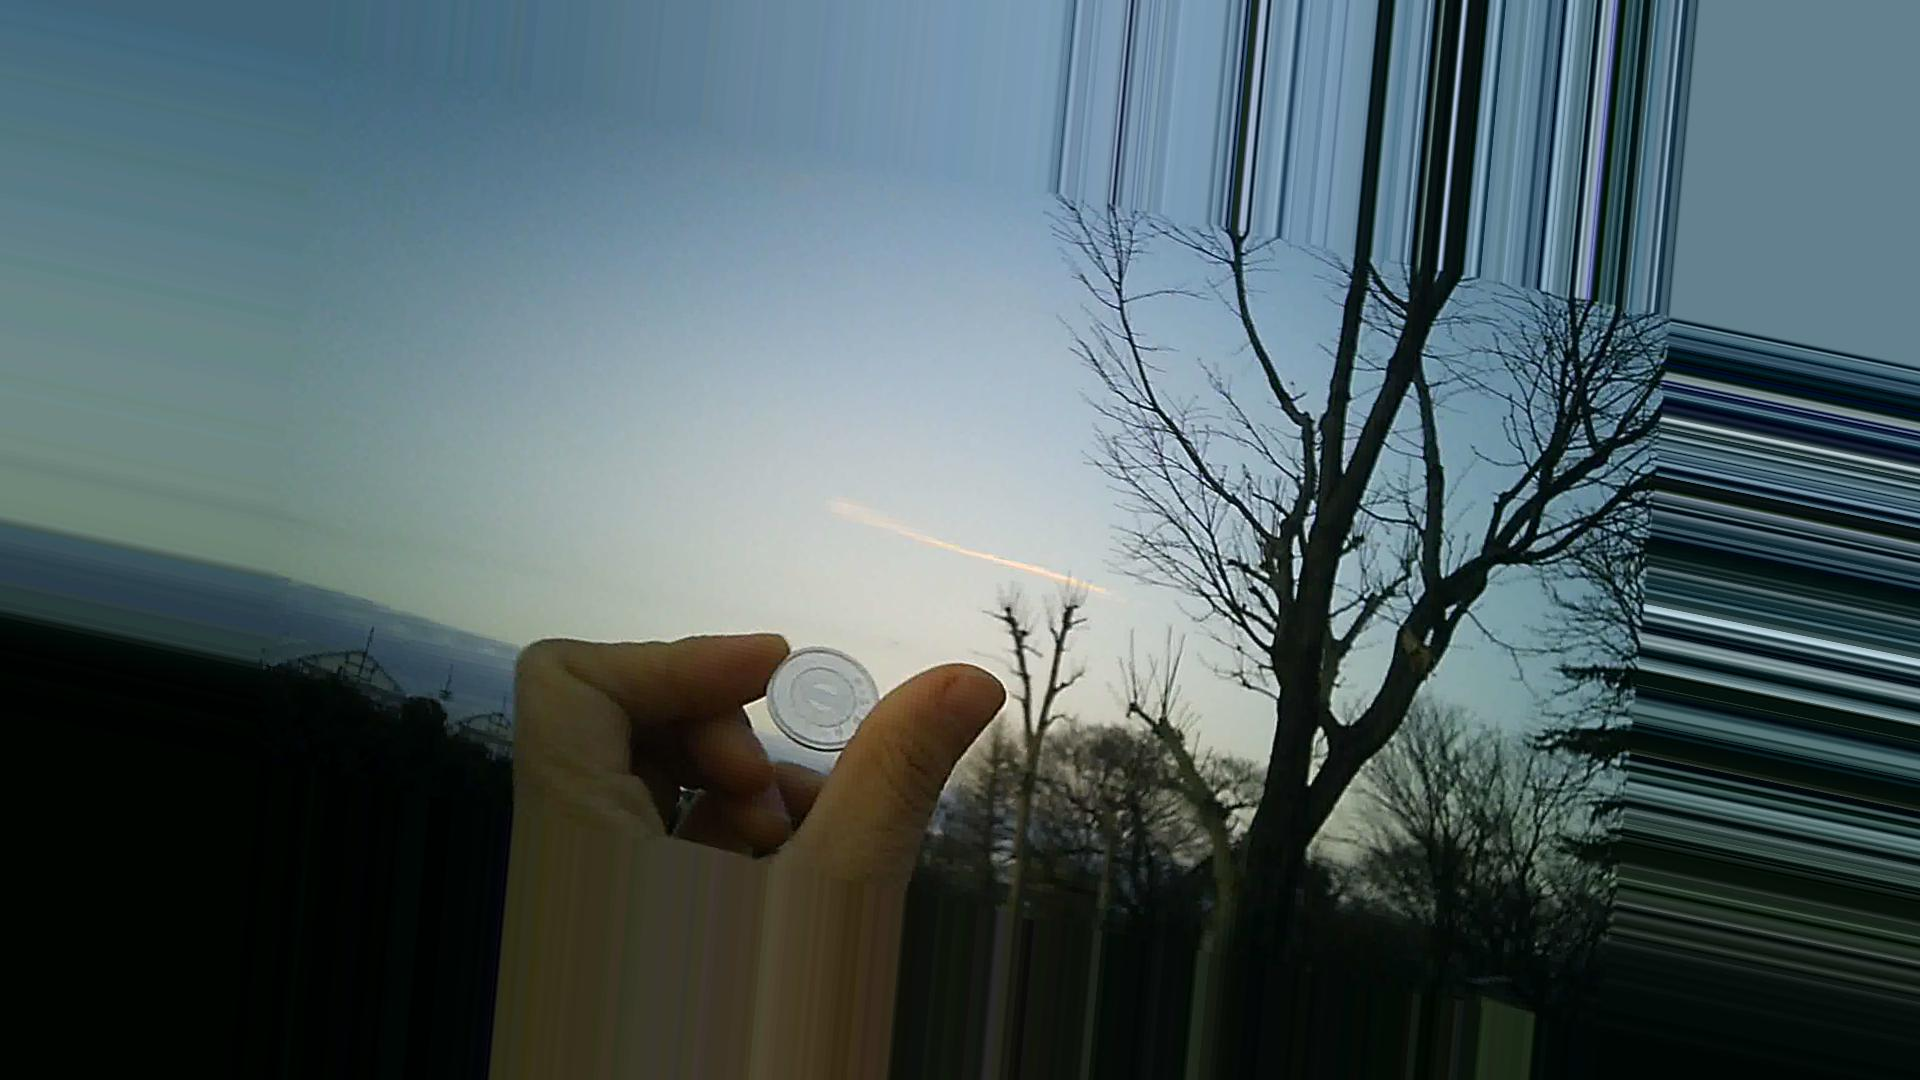1 Yen: (765, 649, 887, 760)
